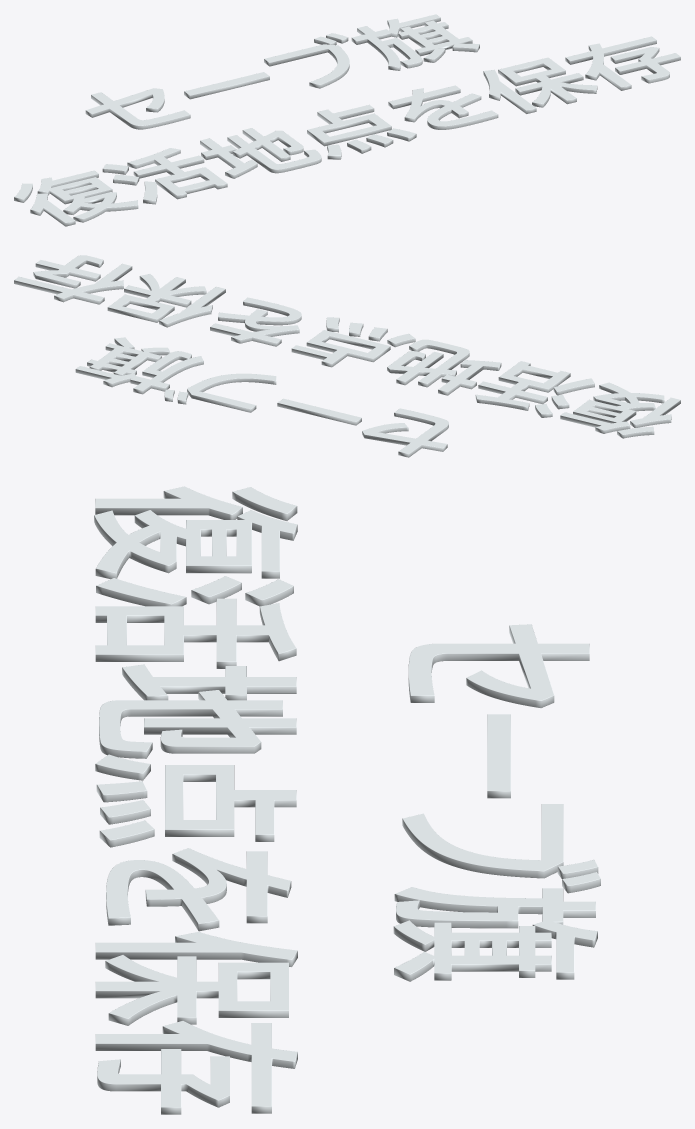
The model's file is stage1_save_flag.obj.
3 renders of one model, top to bottom at view 1: azimuth 30°, elevation 25°; view 2: azimuth 150°, elevation 25°; view 3: azimuth 270°, elevation 25°, orthographic. The views are drawn at different scales.
Visible parts, largest first — view 1: stage1_save_flag; view 2: stage1_save_flag; view 3: stage1_save_flag.
Part boxes in pixels (<box>): stage1_save_flag: <box>14,14,680,226</box>; stage1_save_flag: <box>14,255,680,457</box>; stage1_save_flag: <box>94,486,600,1114</box>.
Size of the model in its own units: 2.96 by 0.0166 by 1.02.
1 material, 1 textured.
